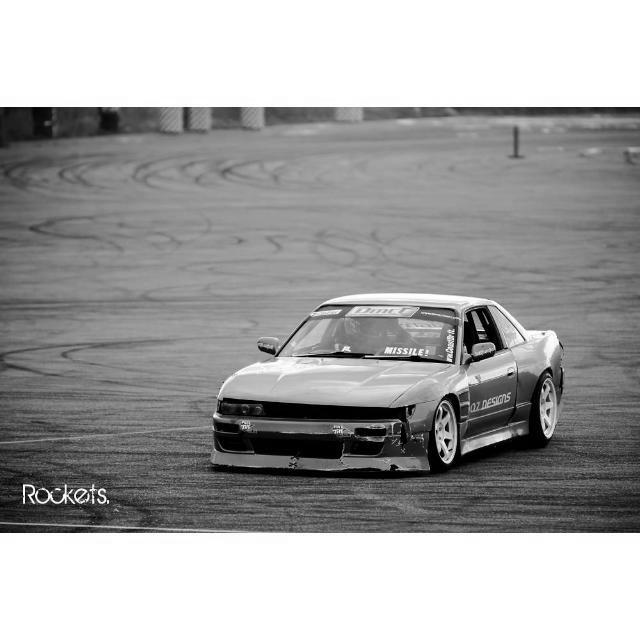front-bumper-dent: (214, 400, 419, 471)
